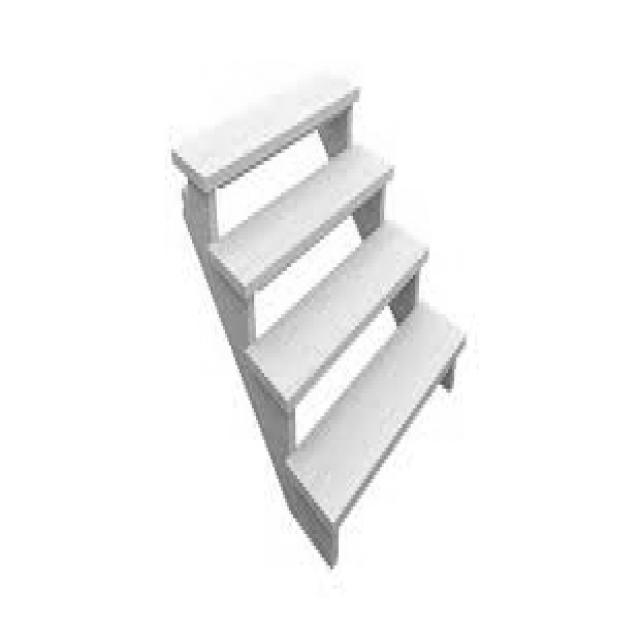stair: (176, 66, 465, 560)
